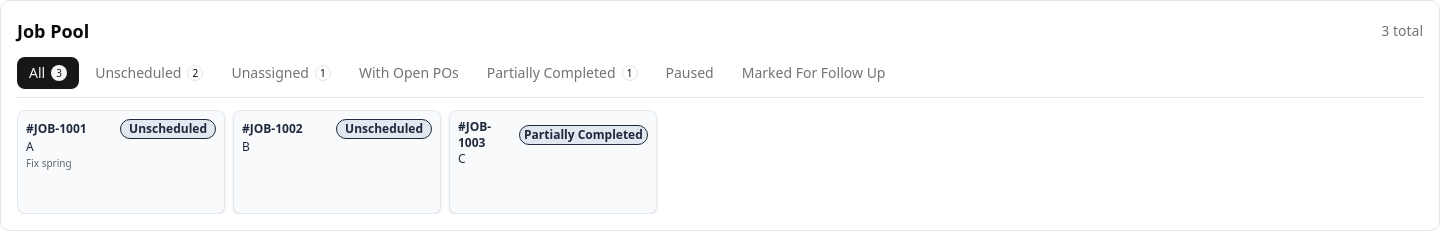
Scenario: JobPool › shows unscheduled jobs when the unscheduled tab is selected
This screenshot has width=1440, height=248.
Click the button with test id "pool-tab-unscheduled" at (149, 73), box [83,57,216,89]
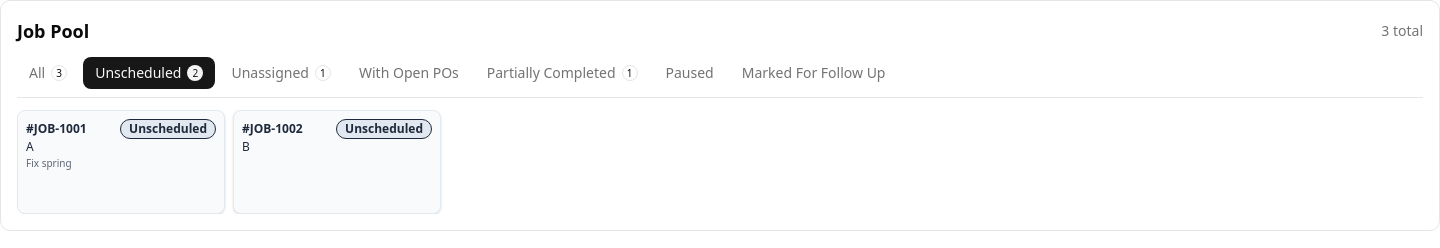
Expected: the text "#JOB-1001" is shown, [26,121,87,137]
Expected: the text "#JOB-1003" is gone
